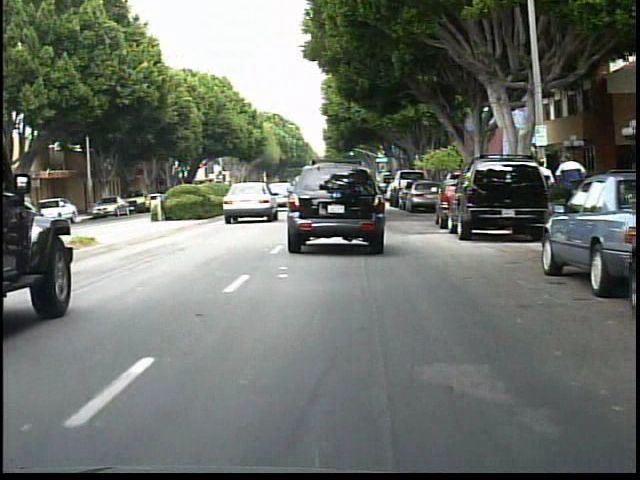person: (554, 147, 590, 223), (528, 156, 555, 221)
